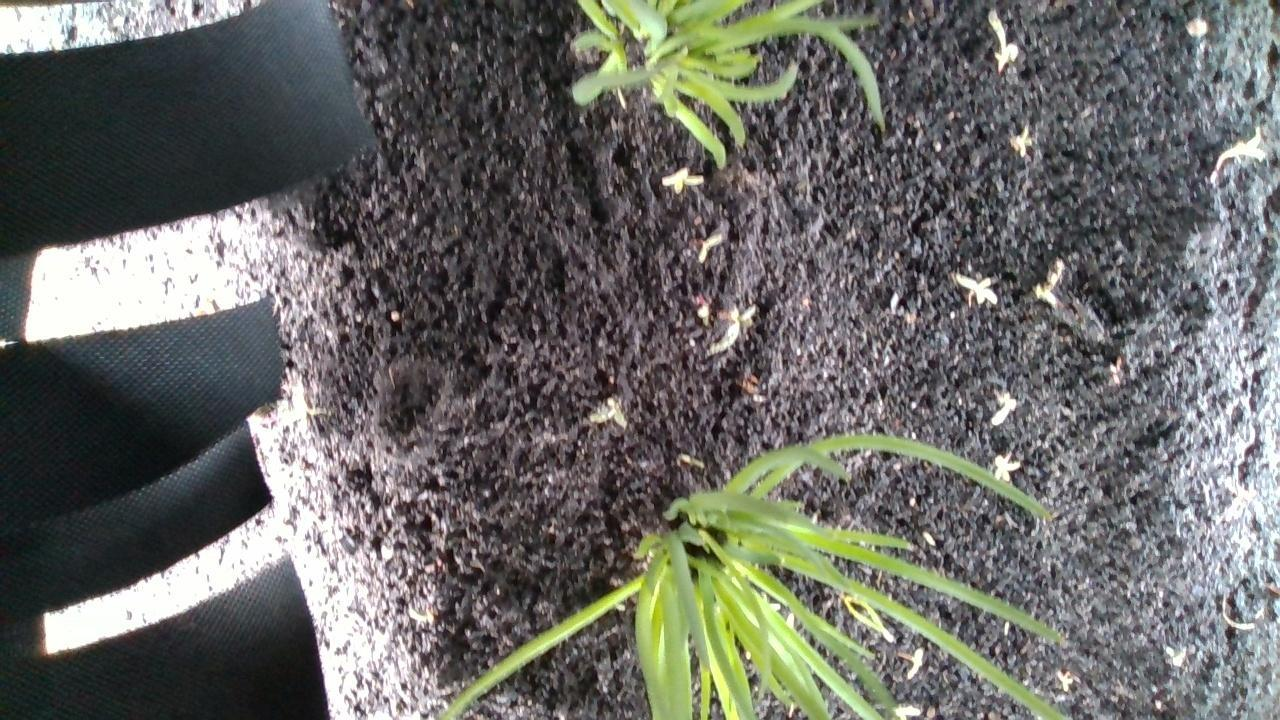weed: (953, 269, 1001, 312), (660, 159, 704, 197), (1010, 122, 1034, 160), (692, 228, 717, 264)
